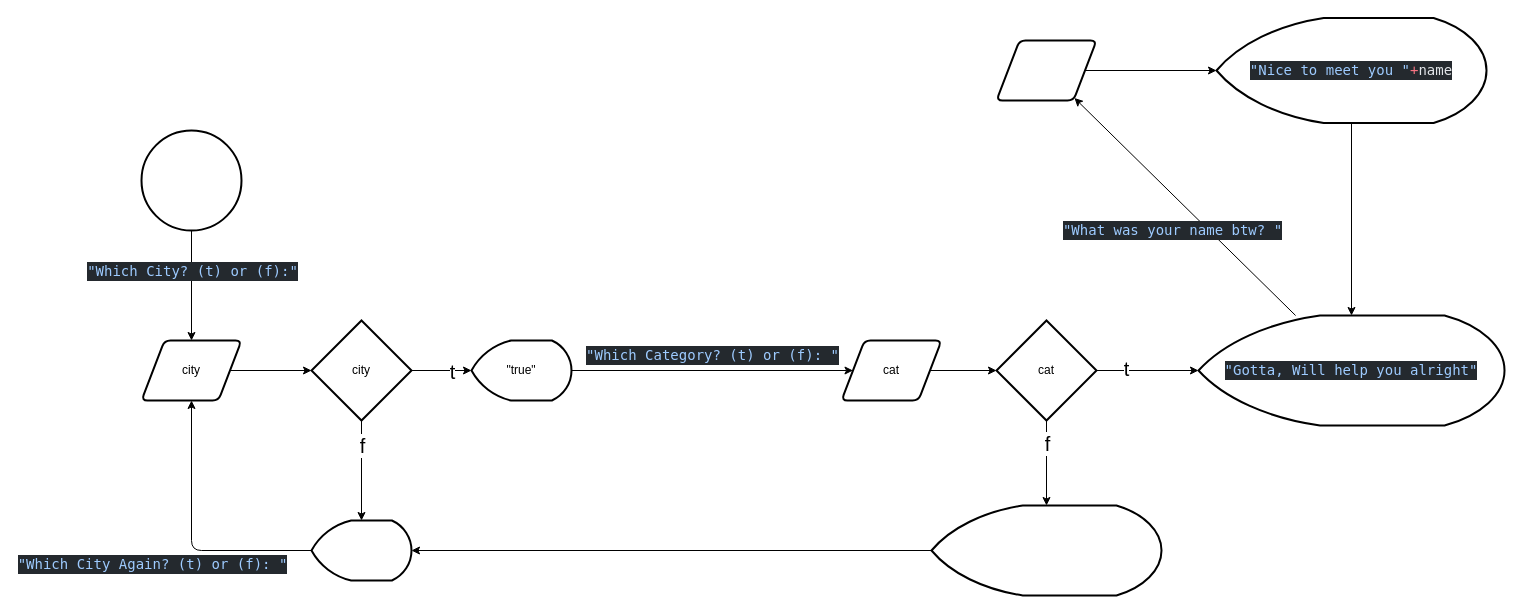
Some shapes in this 1523 by 614 pixel diagram are drawn without their labels. Each missing label, with the centre of its shape:
"Failed, Try Again!": point 1046,550
"false": point 361,550
name: point 1046,70
